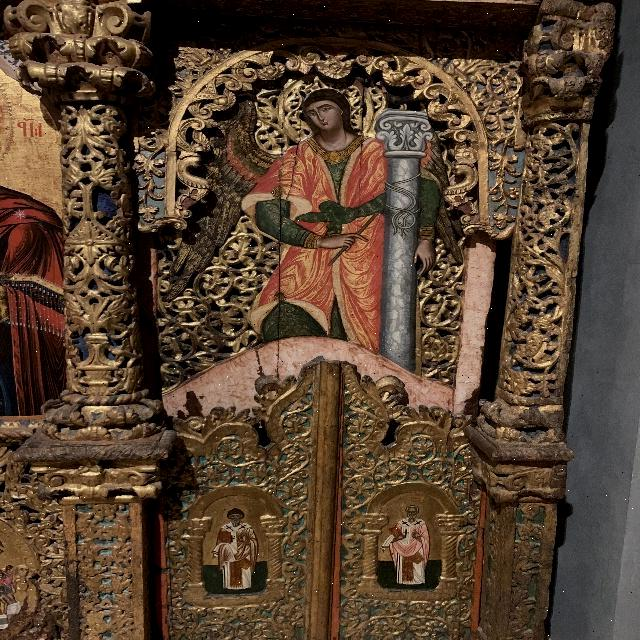angel: (159, 69, 464, 370)
aura: (274, 67, 378, 133)
church_father: (385, 496, 438, 584), (215, 502, 259, 590)
wing: (168, 92, 277, 299), (425, 113, 466, 267)
